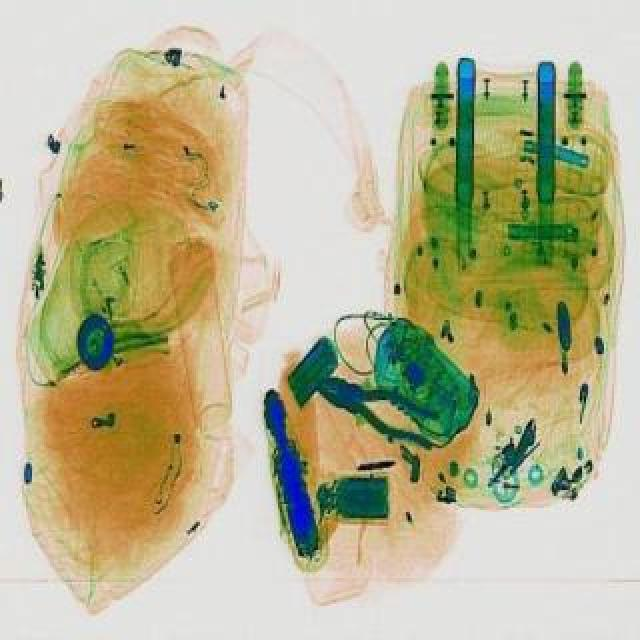wrench: (312, 368, 452, 456)
